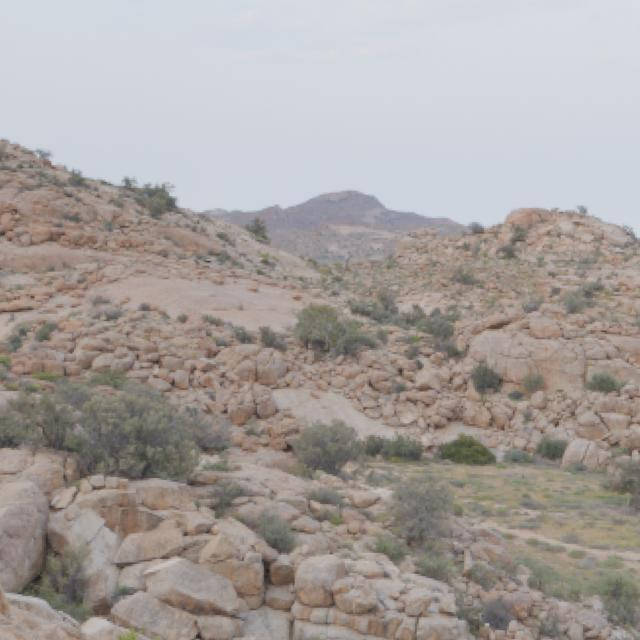Airaplan: (203, 258, 213, 263)
